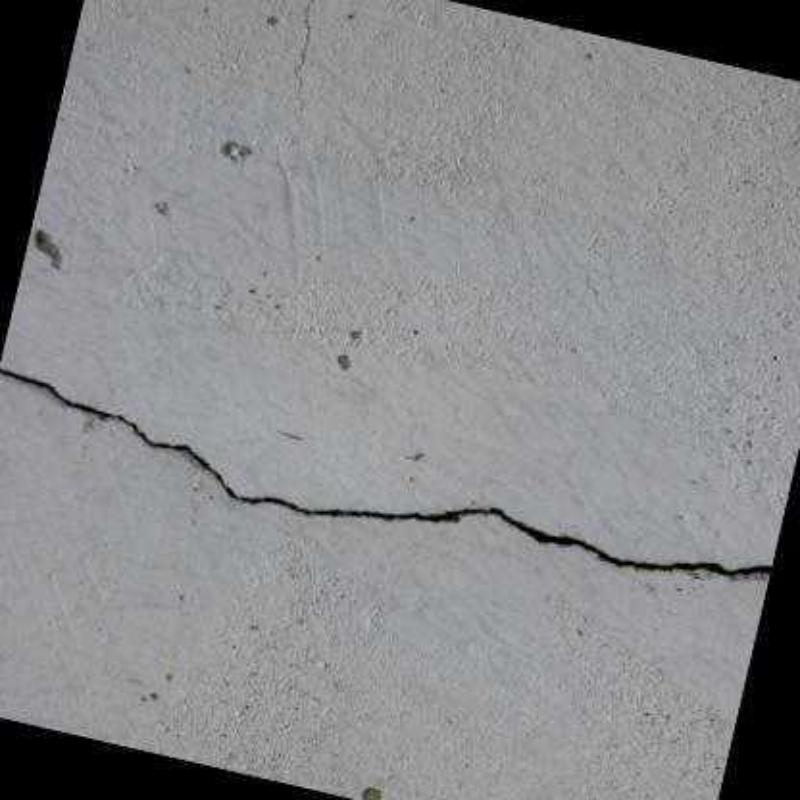crack: (0, 369, 772, 576)
